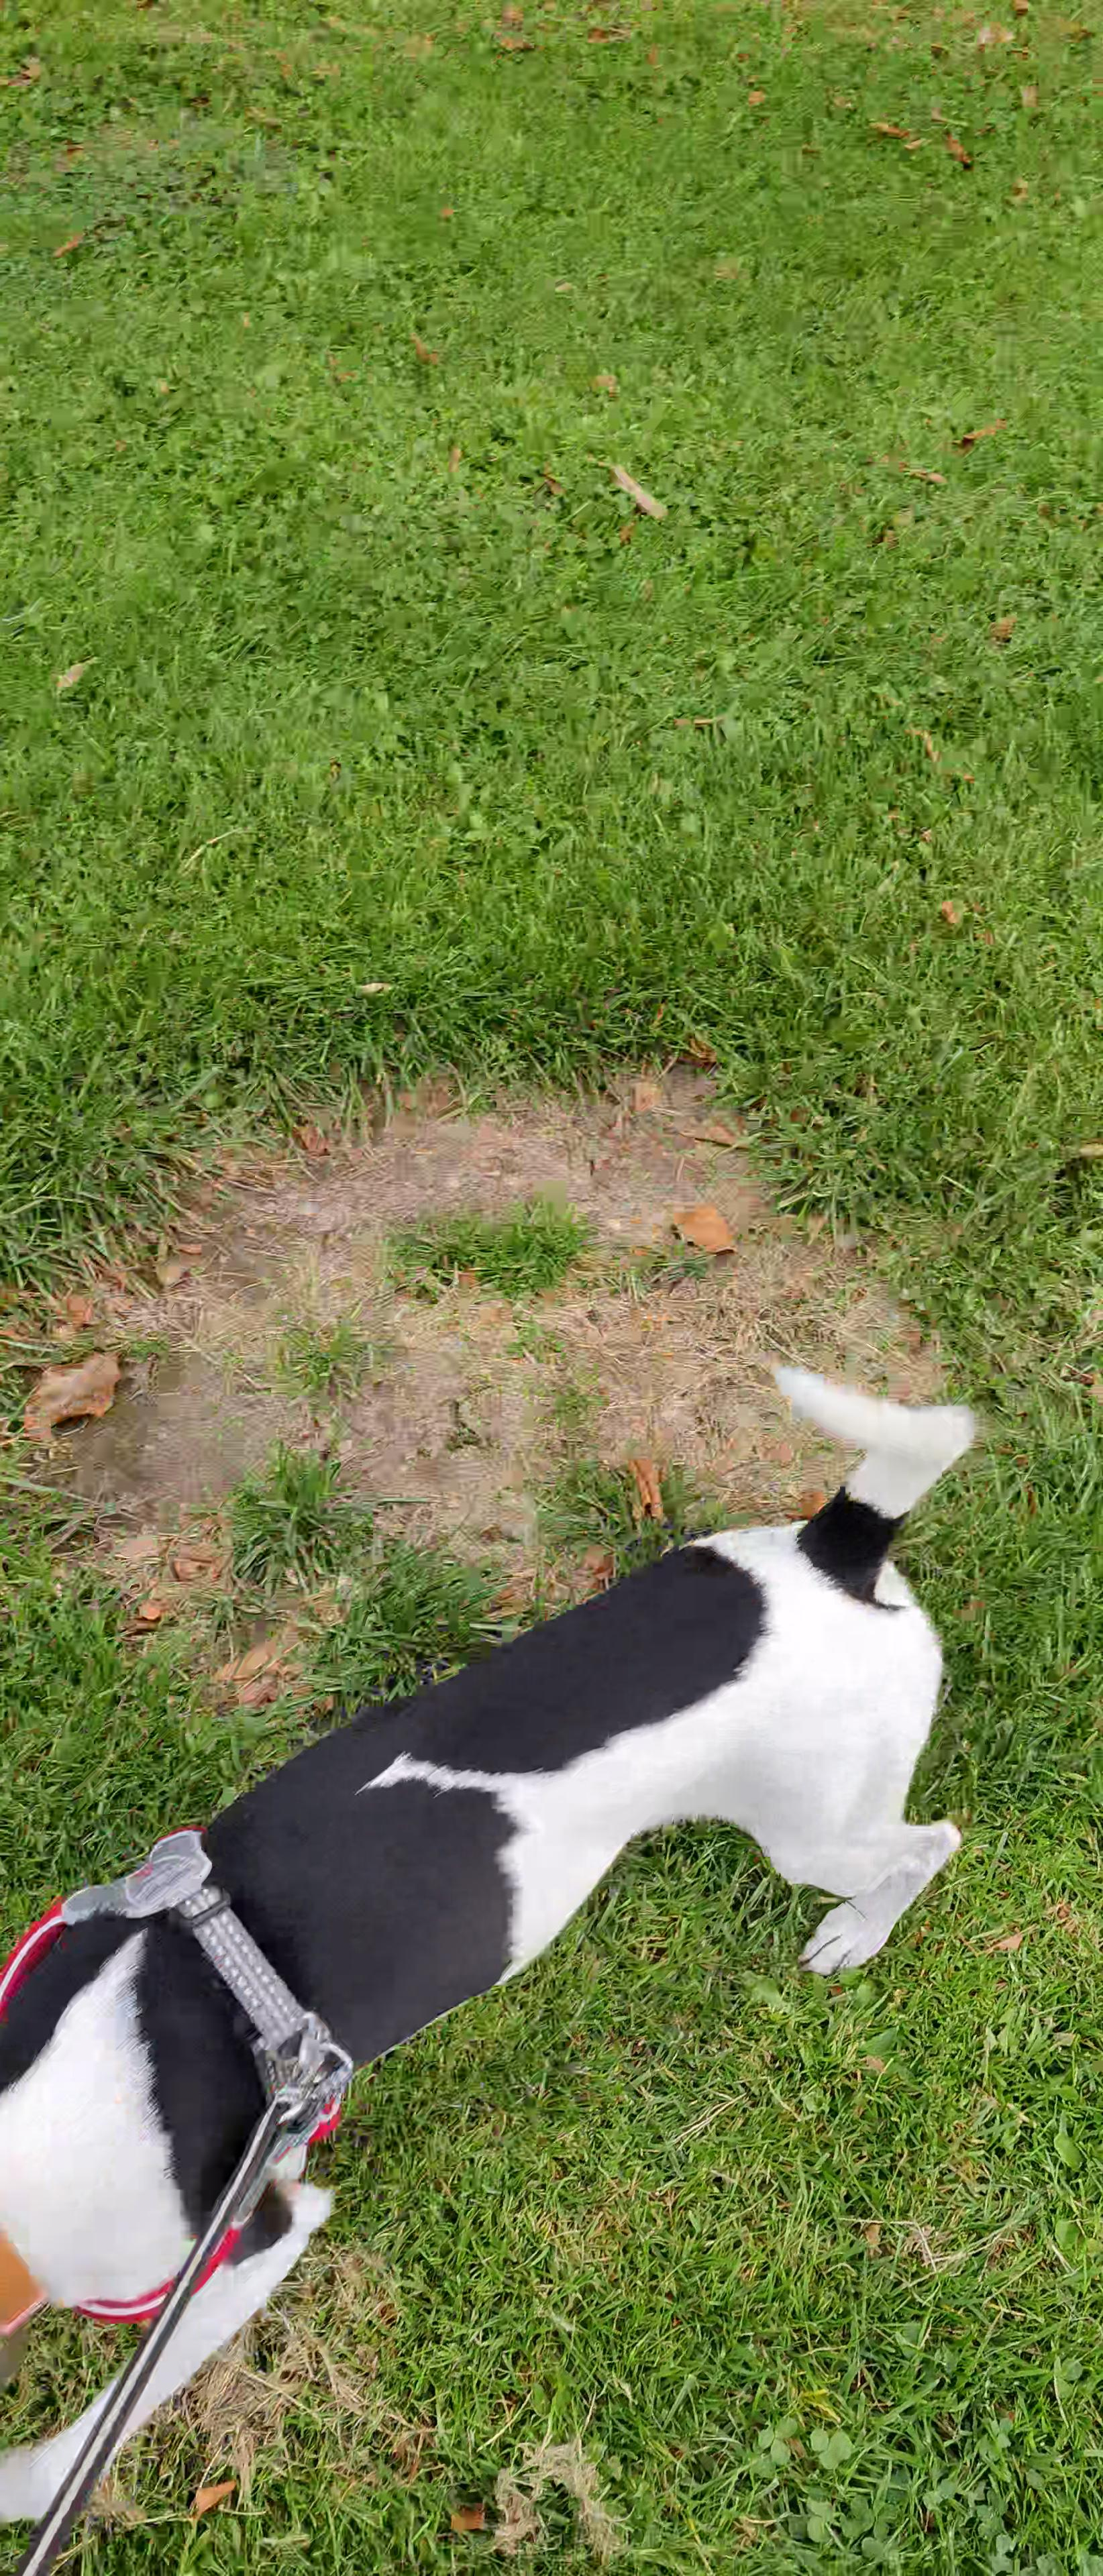Dog: (0, 1360, 986, 2528)
